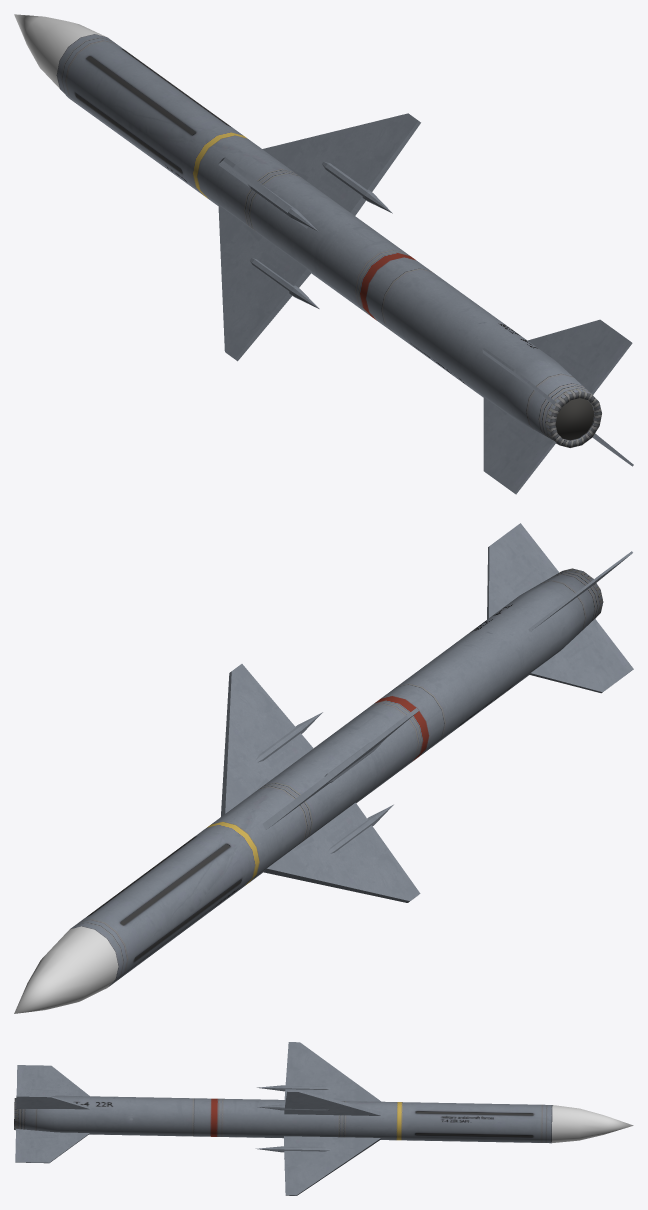
Rendered from missile.gltf.
The picture shows the model from 3 angles, top to bottom: view 1: azimuth 30°, elevation 25°; view 2: azimuth 150°, elevation 25°; view 3: azimuth 270°, elevation 25°; orthographic projection. The views are drawn at different scales.
Visible parts, largest first — view 1: Cylinder, Cube.002, Cube.003, Cube.005, Cube.004, Cube; view 2: Cylinder, Cube.002, Cube.003, Cube.005, Cube.004, Cube; view 3: Cylinder, Cube.001, Cube, Cube.006, Cube.003, Cube.007, Cube.004.
Part boxes in pixels (x1,y1,x2,y2): Cylinder: [14, 14, 601, 447]; Cube.002: [218, 205, 319, 361]; Cube.003: [262, 113, 420, 215]; Cube.005: [483, 397, 555, 494]; Cube.004: [528, 319, 632, 394]; Cube: [218, 157, 318, 231]; Cylinder: [14, 568, 603, 1013]; Cube.002: [263, 802, 420, 902]; Cube.003: [221, 664, 322, 816]; Cube.005: [529, 619, 633, 693]; Cube.004: [487, 523, 558, 619]; Cube: [262, 708, 418, 830]; Cylinder: [14, 1095, 633, 1143]; Cube.001: [255, 1136, 380, 1195]; Cube: [257, 1042, 380, 1101]; Cube.006: [15, 1129, 89, 1163]; Cube.003: [257, 1089, 381, 1115]; Cube.007: [16, 1065, 89, 1096]; Cube.004: [16, 1095, 90, 1109].
Size of the model in its own units: 0.7274 by 0.7278 by 3.85.
Materials: 1 (1 with a texture image).
